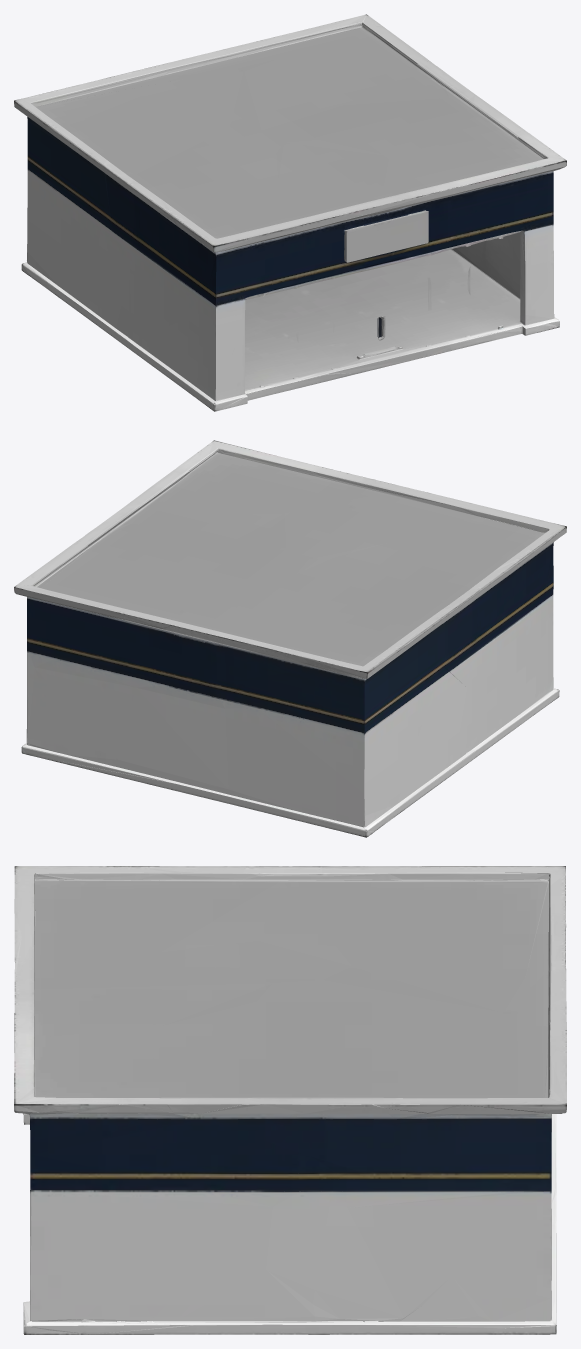
Rendered from lm_showroom.glb.
3 views of the same model, one above another, from view 1: azimuth 30°, elevation 25°; view 2: azimuth 150°, elevation 25°; view 3: azimuth 270°, elevation 25° (orthographic). The views are drawn at different scales.
Visible parts, largest first — view 1: geometry_0; view 2: geometry_0; view 3: geometry_0.
Part boxes in pixels (x1,y1,x2,y2): geometry_0: (14,14,566,411); geometry_0: (14,440,566,837); geometry_0: (14,866,566,1334).
Size of the model in its own units: 0.9999 by 0.4566 by 0.98.
Materials: 1 (1 with a texture image).
